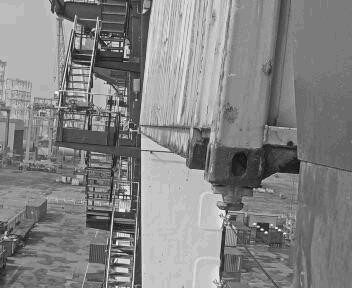twist_lock_1: (203, 177, 260, 221)
